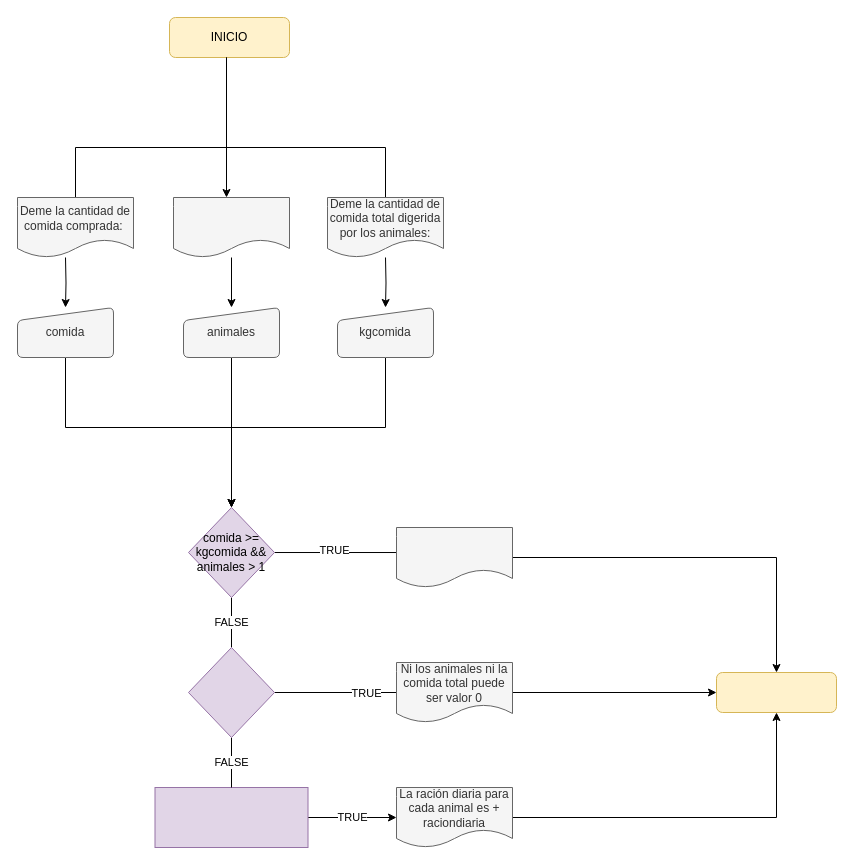
Some shapes in this 854 by 865 pixel diagram are drawn without their labels. Each missing label, with the centre of its shape:
"animales <= 0 || kgcomida <= 0" goes at point 231,692.
"animales/kgcomida" goes at point 231,817.
"Deme la cantidad de animales:" goes at point 231,227.
"FIN" goes at point 776,692.
"Hay alimento suficiente para cada animal" goes at point 454,557.
